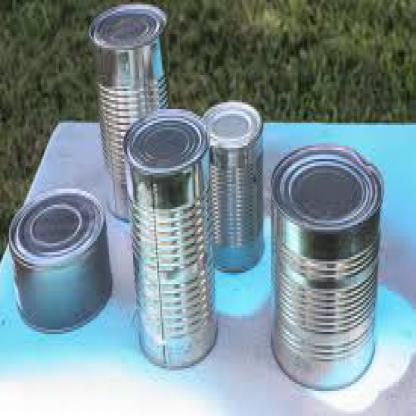METAL: (269, 141, 383, 391), (119, 107, 218, 368), (86, 4, 168, 220), (8, 189, 113, 334), (201, 97, 263, 270)
